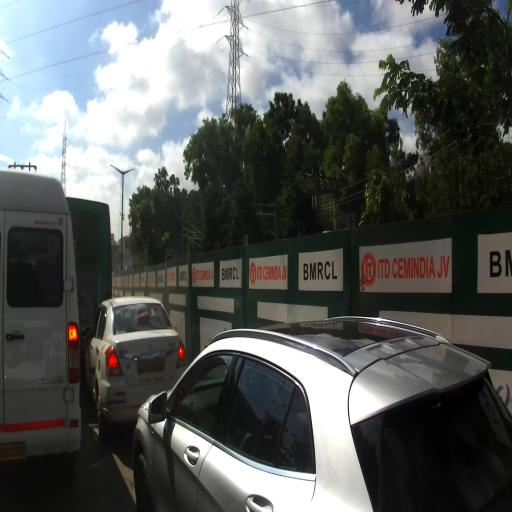street_light_0: (110, 164, 124, 179), (122, 168, 135, 179)
